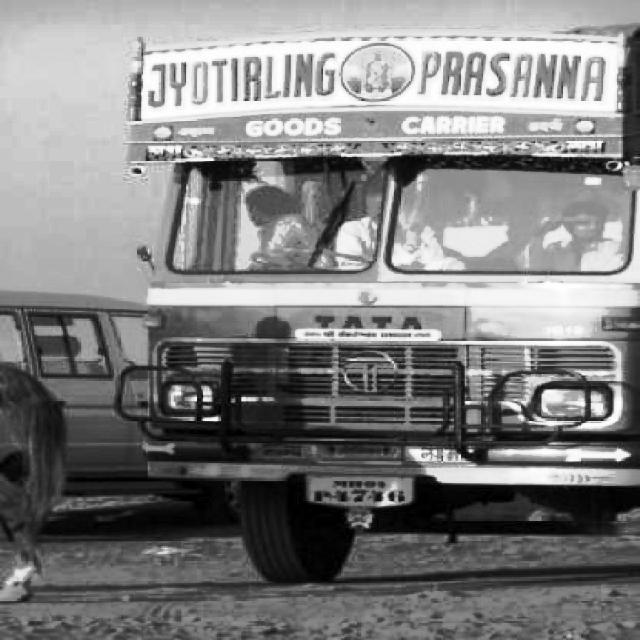HCV: (120, 55, 640, 561)
